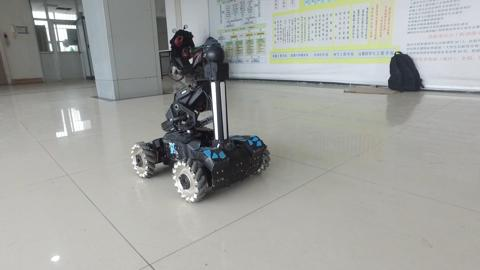bag: (384, 48, 429, 97)
chariot: (121, 36, 280, 212)
